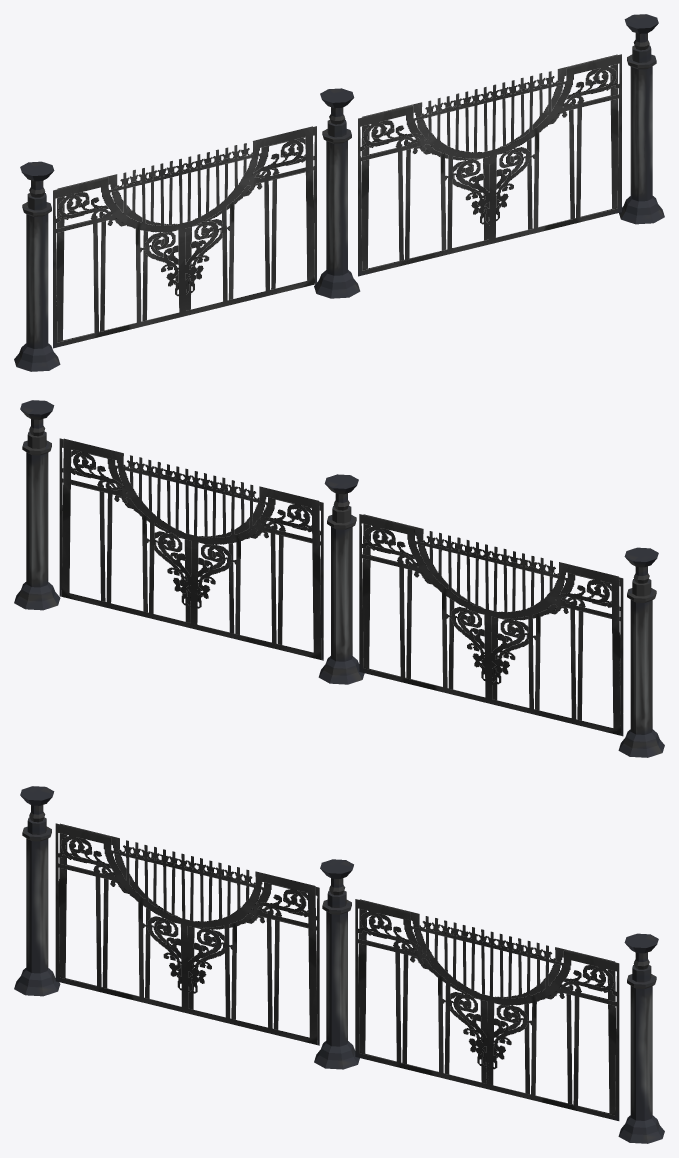
File: cerca.fbx
3 views of the same model, one above another, from view 1: azimuth 30°, elevation 25°; view 2: azimuth 150°, elevation 25°; view 3: azimuth 330°, elevation 25° (orthographic).
Parts seen in each view (by area): view 1: cercaMetal; view 2: cercaMetal; view 3: cercaMetal.
Boxes of the visible parts, x1=… form: cercaMetal: x1=14, y1=14, x2=664, y2=371; cercaMetal: x1=14, y1=400, x2=664, y2=757; cercaMetal: x1=14, y1=786, x2=664, y2=1143.
Bounding box in the file's own units: 2502 × 715 × 161.
